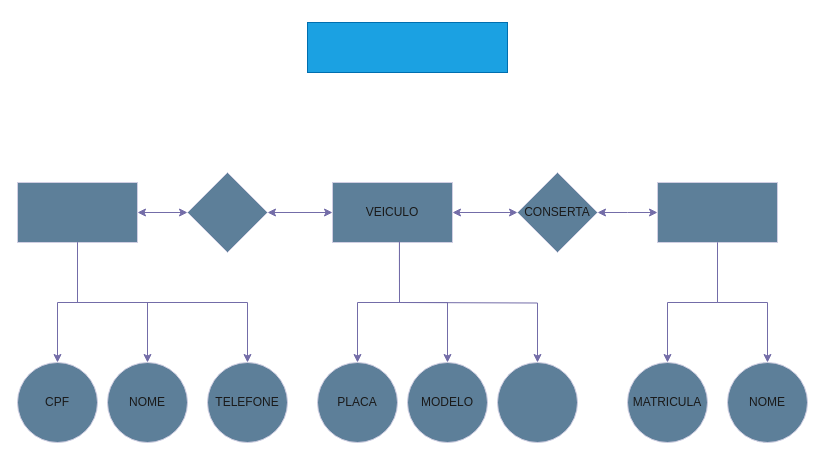
Image size: 825x460. Some labels were removed from this diagram. Each missing label, with the centre of its shape:
"ANO" goes at pixel 537 402.
"CLIENTE" goes at pixel 77 212.
"EXERCICIO 2" goes at pixel 407 47.
"FUNCIONARIO" goes at pixel 717 212.
"POSSUI" goes at pixel 227 212.
